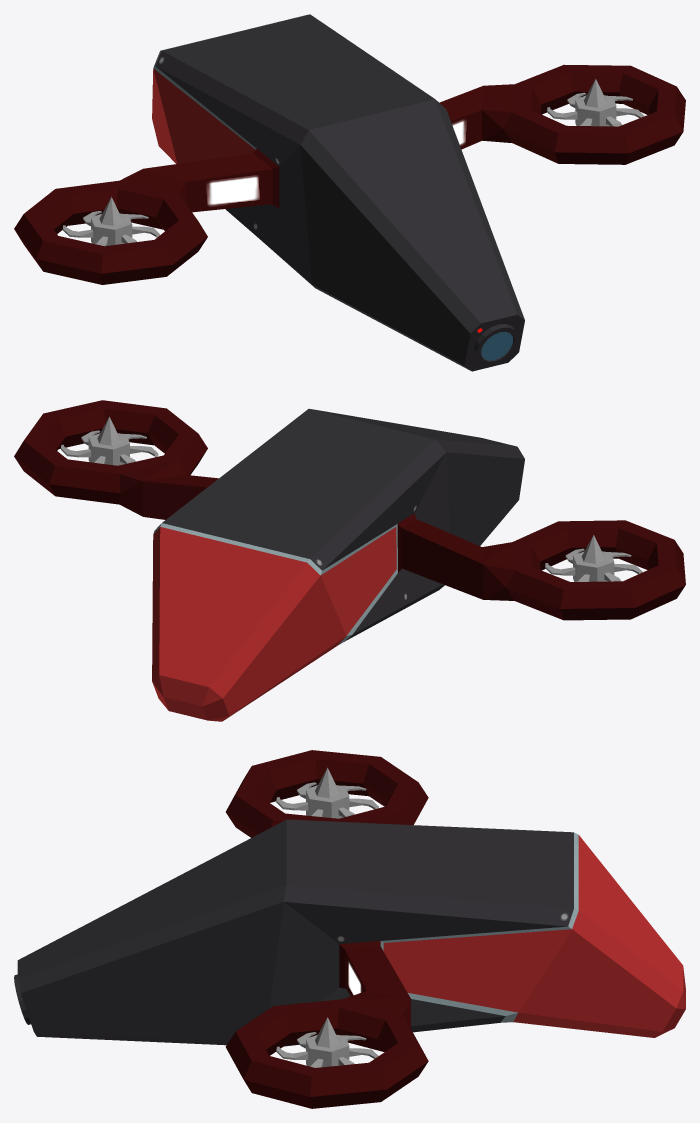
The model's file is drone.glb.
3 renders of one model, top to bottom at view 1: azimuth 30°, elevation 25°; view 2: azimuth 150°, elevation 25°; view 3: azimuth 270°, elevation 25°, orthographic. The views are drawn at different scales.
Visible parts, largest first — view 1: Cube, Cylinder.003, Cylinder.002; view 2: Cube, Cylinder.003, Cylinder.002; view 3: Cube, Cylinder.002, Cylinder.003.
Boxes of the visible parts, box(x1,y1,x2,y2) form: Cube: box(14, 14, 685, 371); Cylinder.003: box(547, 79, 643, 126); Cylinder.002: box(62, 197, 159, 246); Cube: box(14, 400, 685, 721); Cylinder.003: box(61, 416, 158, 465); Cylinder.002: box(545, 535, 642, 581); Cube: box(14, 750, 685, 1108); Cylinder.002: box(276, 767, 378, 818); Cylinder.003: box(276, 1017, 378, 1067).
Size of the model in its own units: 282 by 68.89 by 239.
6 materials, 6 textured.
